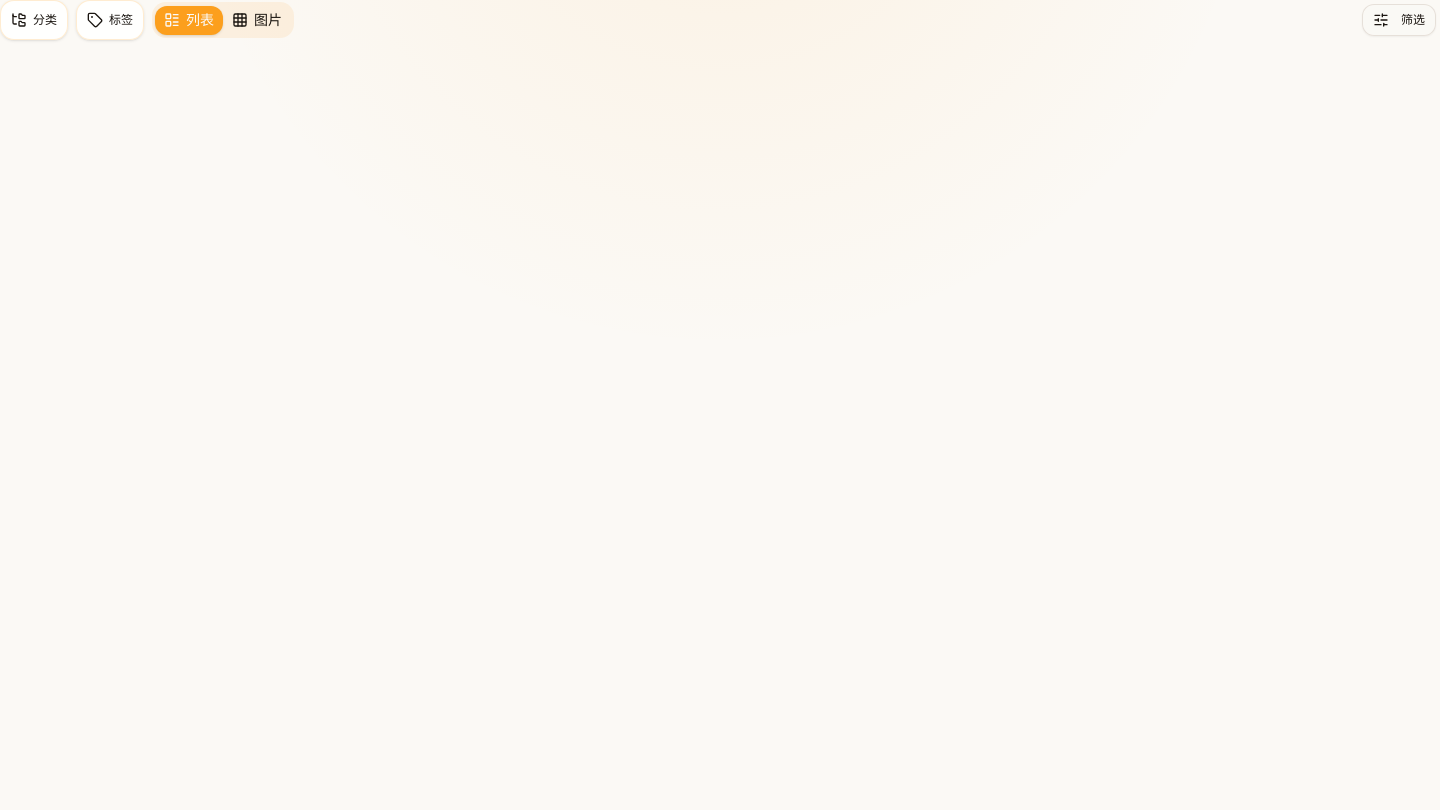
Scenario: ThingHeader › 分类筛选 › 应该支持切换为只显示父分类
This screenshot has width=1440, height=810.
Click the button with aria-label "打开分类筛选": (34, 20) [0,0,68,40]
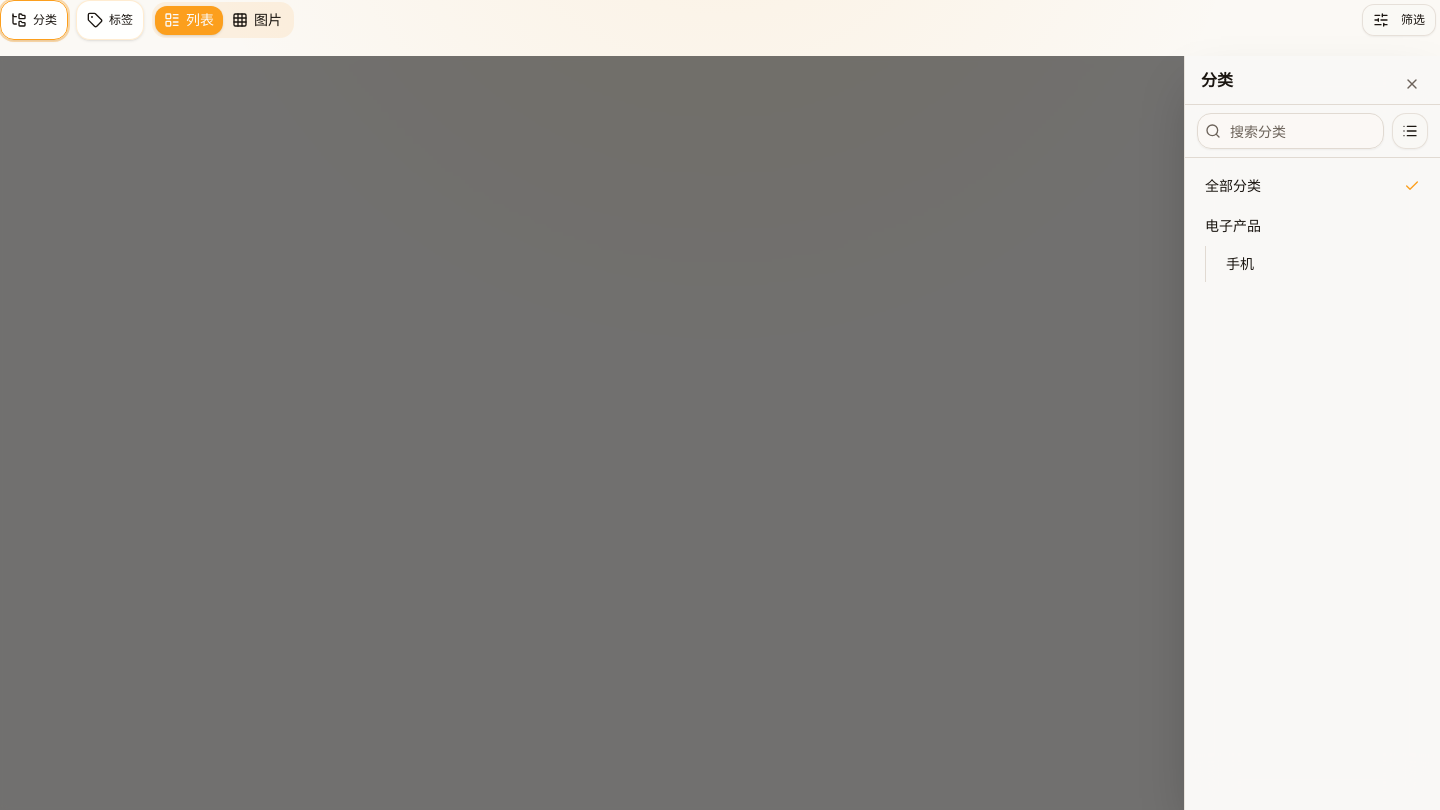
Click the button named "只显示主分类": (1410, 131) [1392,113,1428,149]
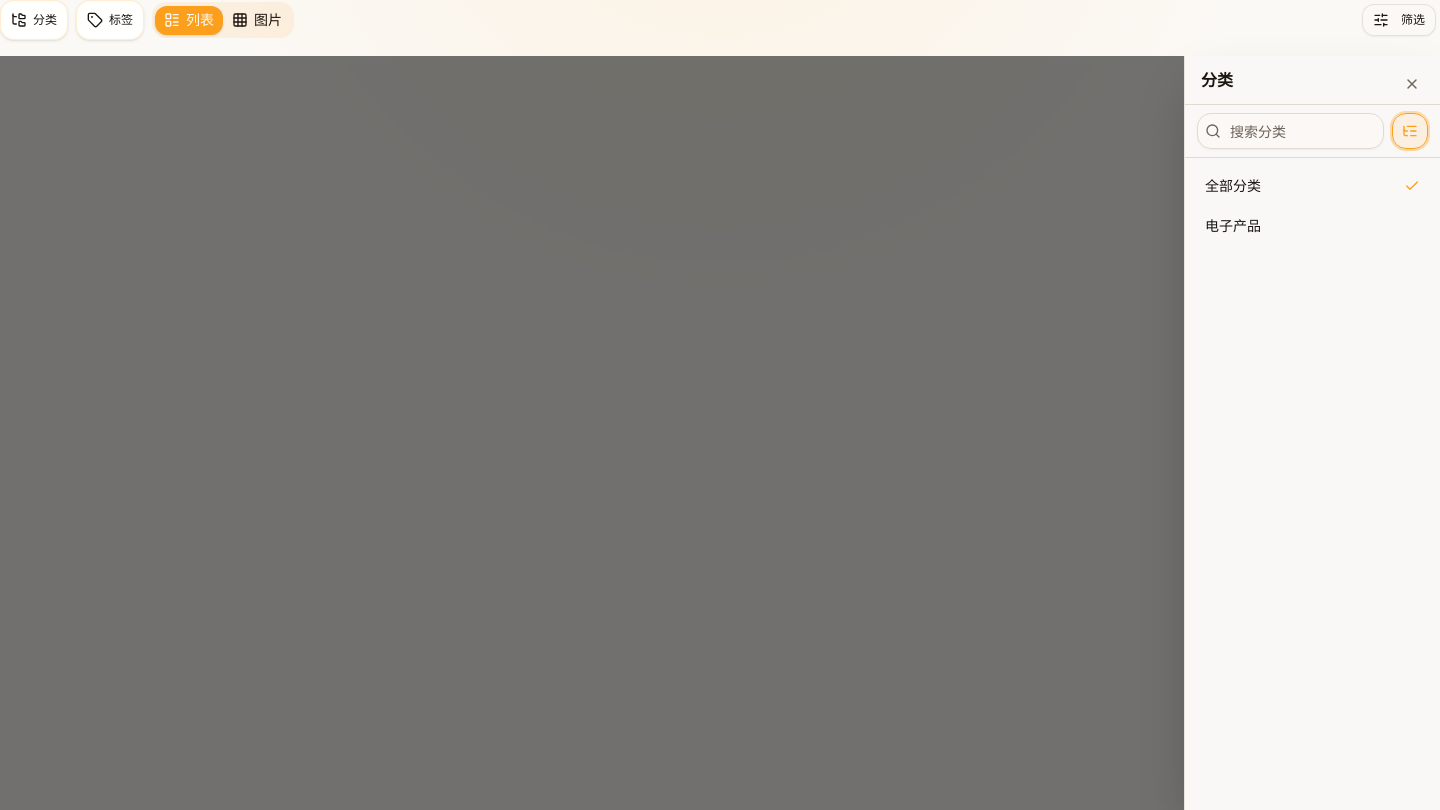
expect the text "电子产品" is shown: met, box [1205,216,1261,236]
expect the button "手机" is gone: met
